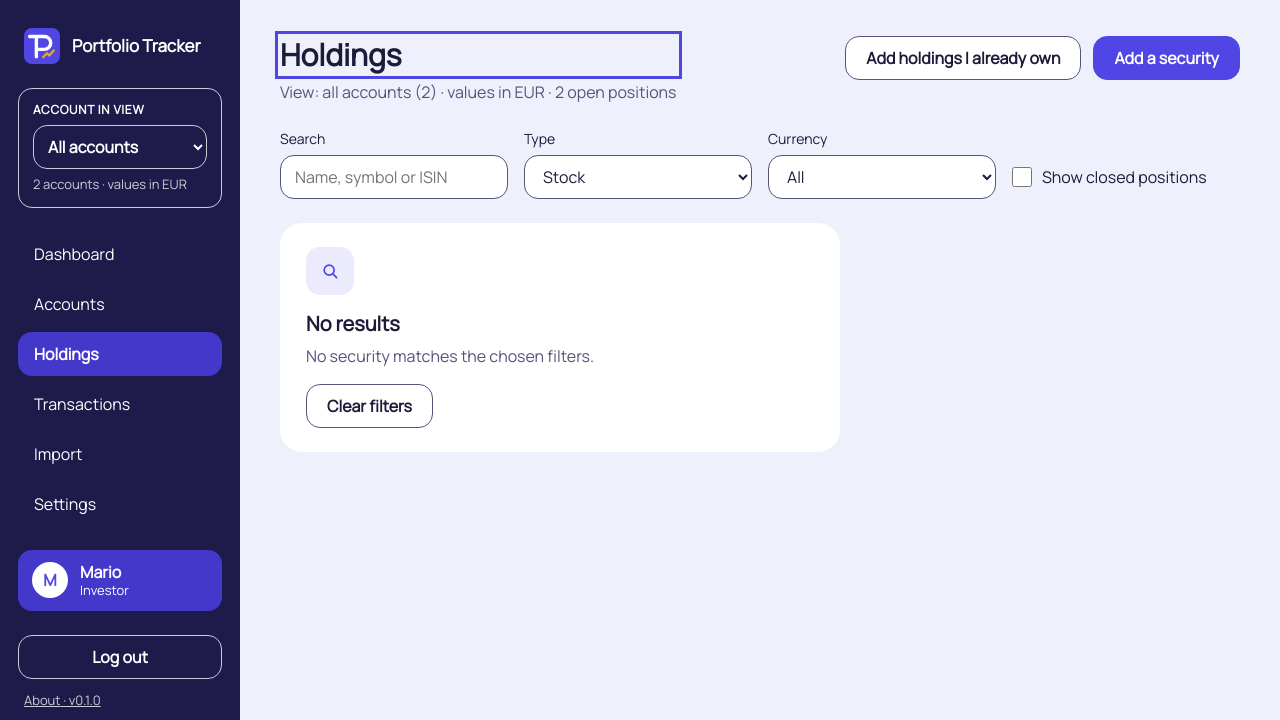
holdings list (mockup 02, D-143, D-146) › no results: the card says so and clears the filters (mockup 19)
Expected: the element "No results" shows "No security matches the chosen filters.", [306, 344, 594, 366]
What coordinates should you click on to do the following:
click the button "Clear filters"
I would click on:
 (369, 406)
Its box is [306, 384, 433, 428].
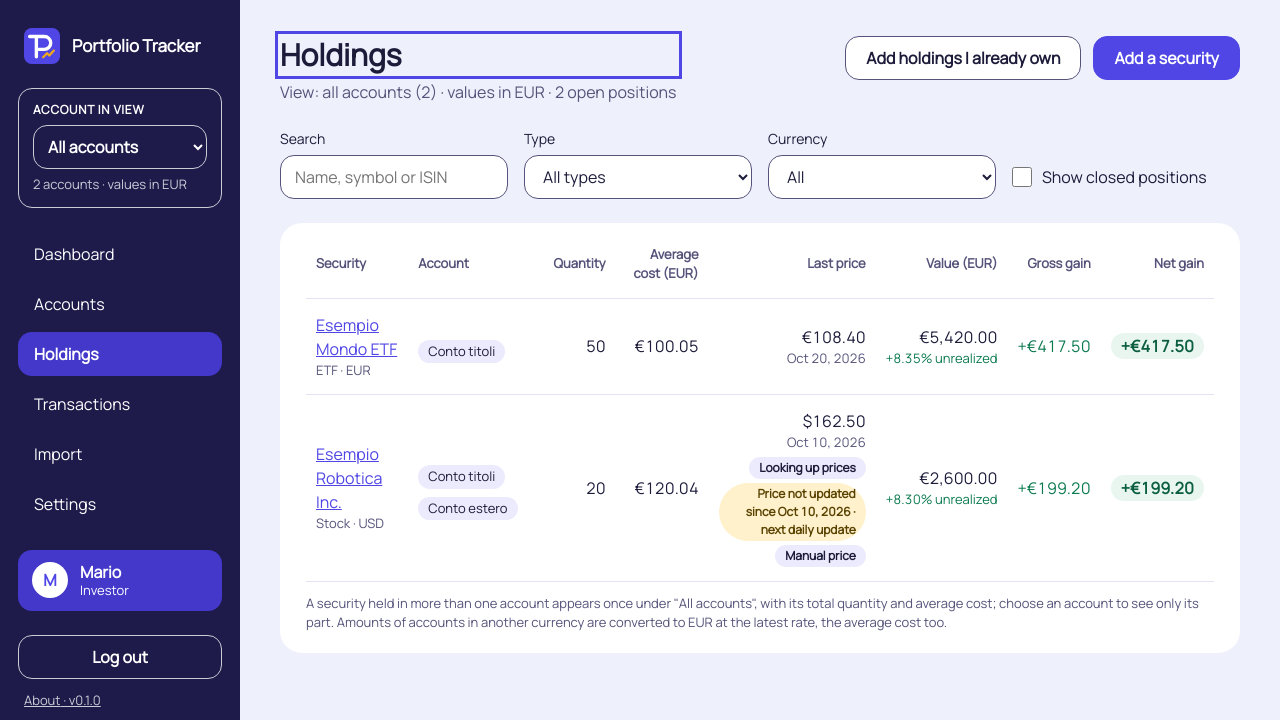
Now the link "Esempio Robotica Inc." is shown, box [316, 443, 382, 513]
